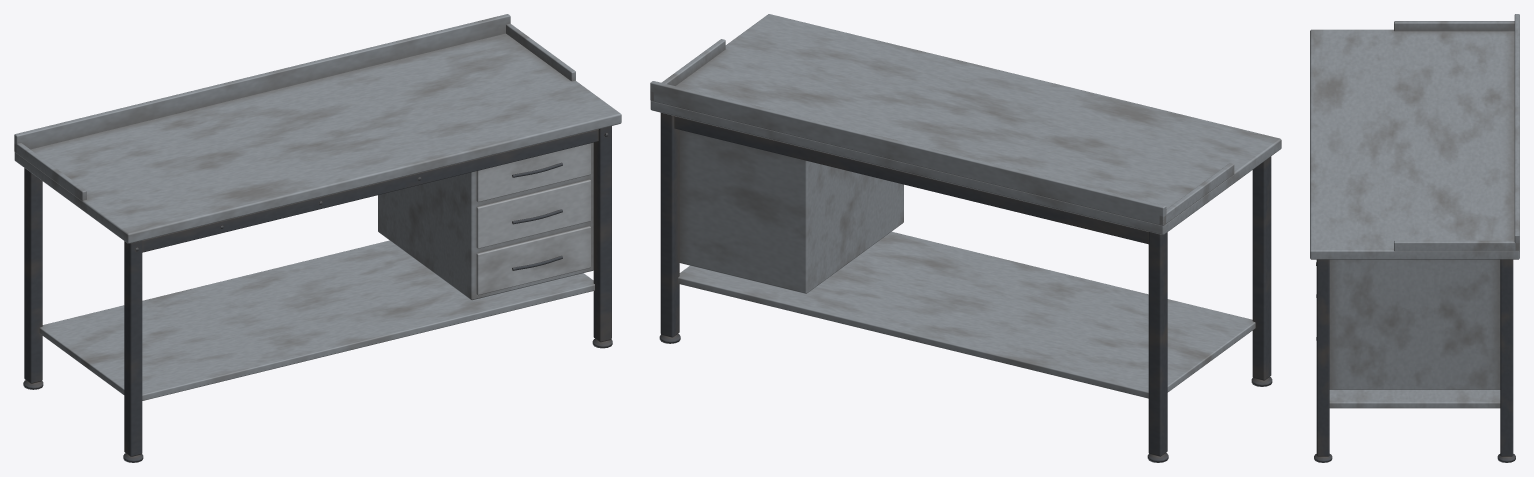
Rendered from lab_stol.glb.
The picture shows the model from 3 angles, left to right: view 1: azimuth 30°, elevation 25°; view 2: azimuth 150°, elevation 25°; view 3: azimuth 270°, elevation 25°; orthographic projection. The views are drawn at different scales.
Parts seen in each view (by area): view 1: Stol; view 2: Stol; view 3: Stol.
Part boxes in pixels (x1,y1,x2,y2): Stol: [14, 14, 621, 462]; Stol: [650, 14, 1281, 462]; Stol: [1310, 14, 1519, 462].
Size of the model in its own units: 2 by 0.965 by 0.8.
Materials: 1 (1 with a texture image).
